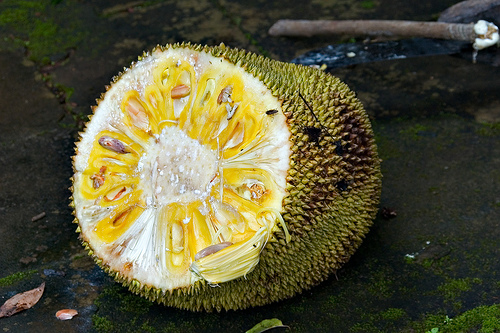jackfruit: (67, 36, 382, 319)
